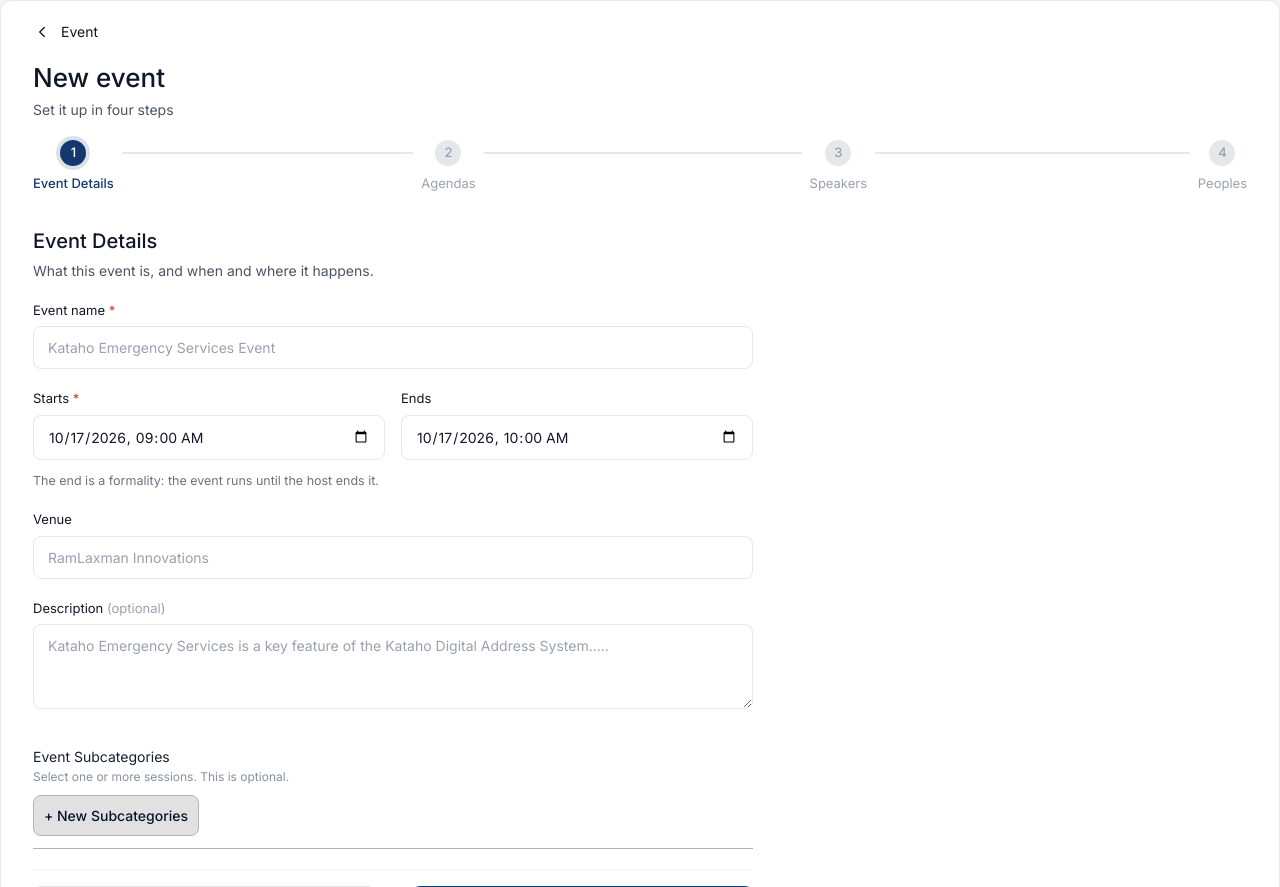
it: naming the parts of an event › keeps the event when a heading cannot be written
This screenshot has width=1280, height=887.
Type "Emergency Services" into the field labelled "Event name *" at (393, 348), box [33,326,753,369]
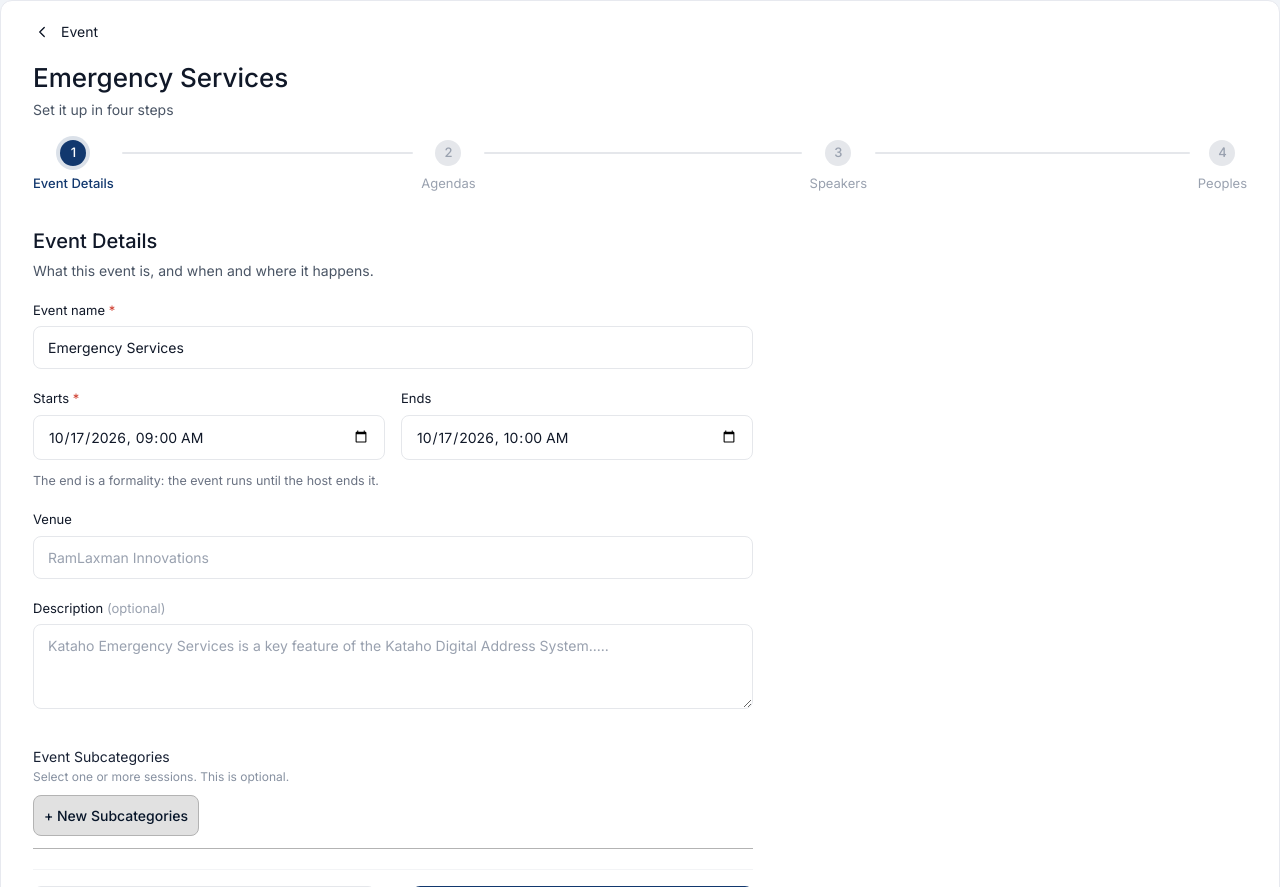
Click the button "+ New Subcategories" at (116, 816), box [33,795,199,836]
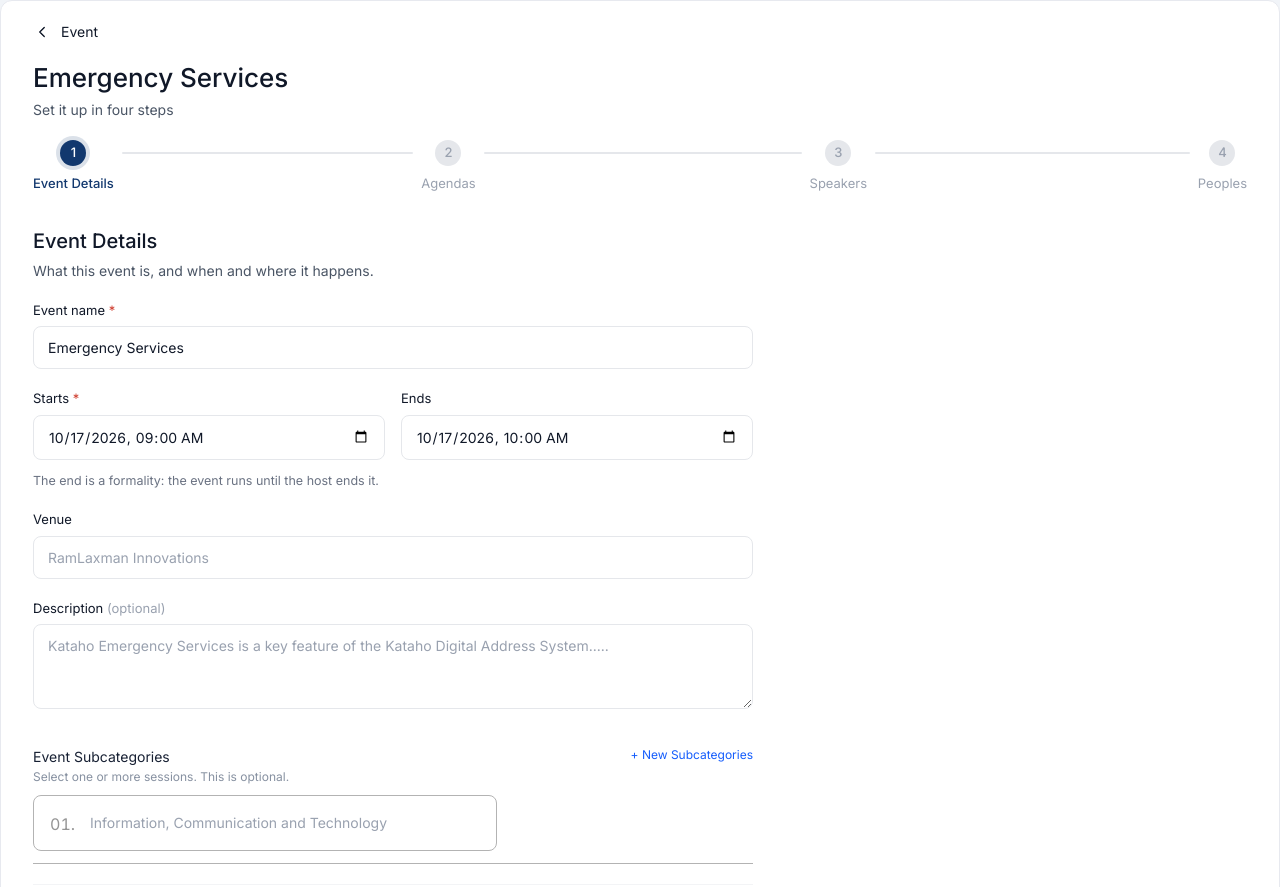
Type "Climate Change" into the field named "Subcategory name" at (285, 823), box [90,813,480,833]
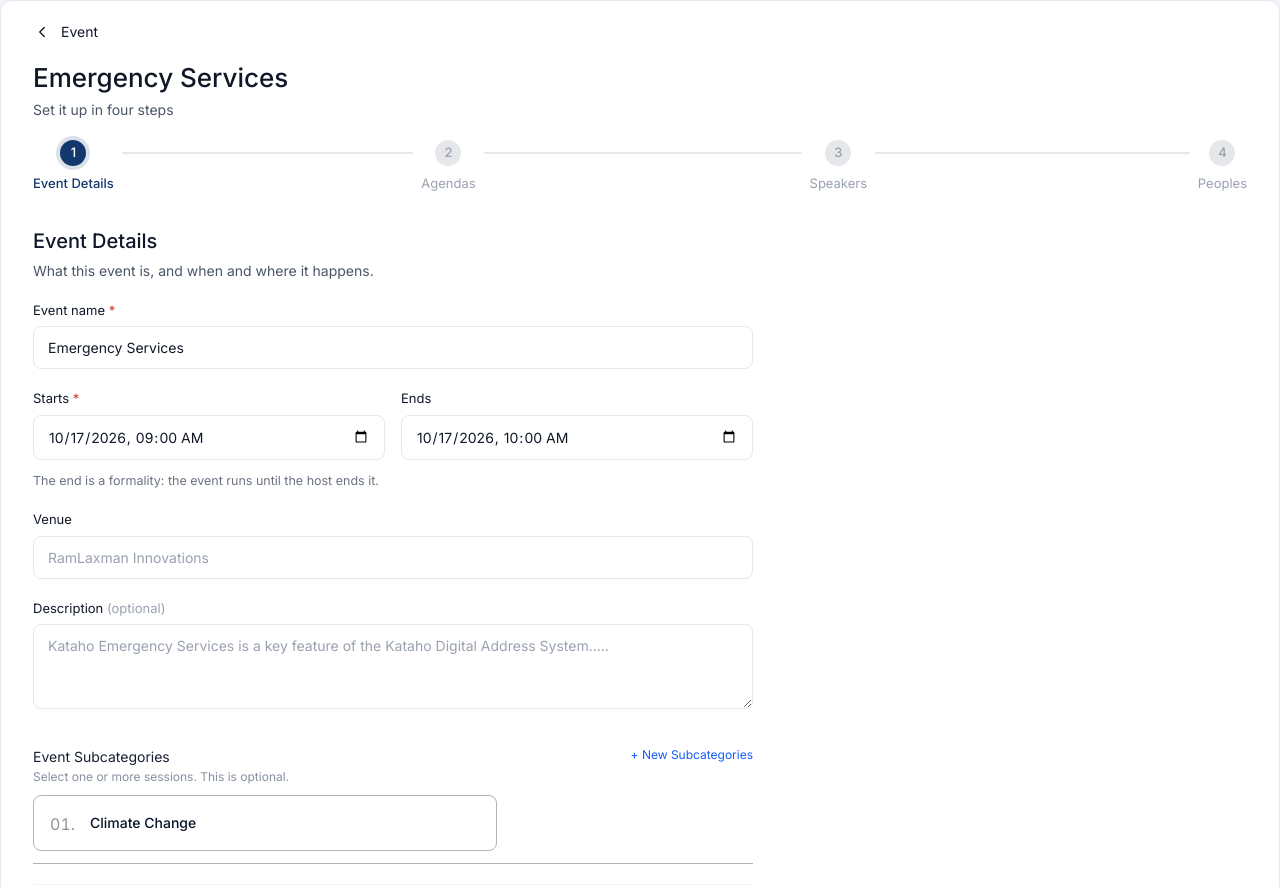
Press Enter in the field named "Subcategory name", box [90,813,480,833]
(page scrolled)
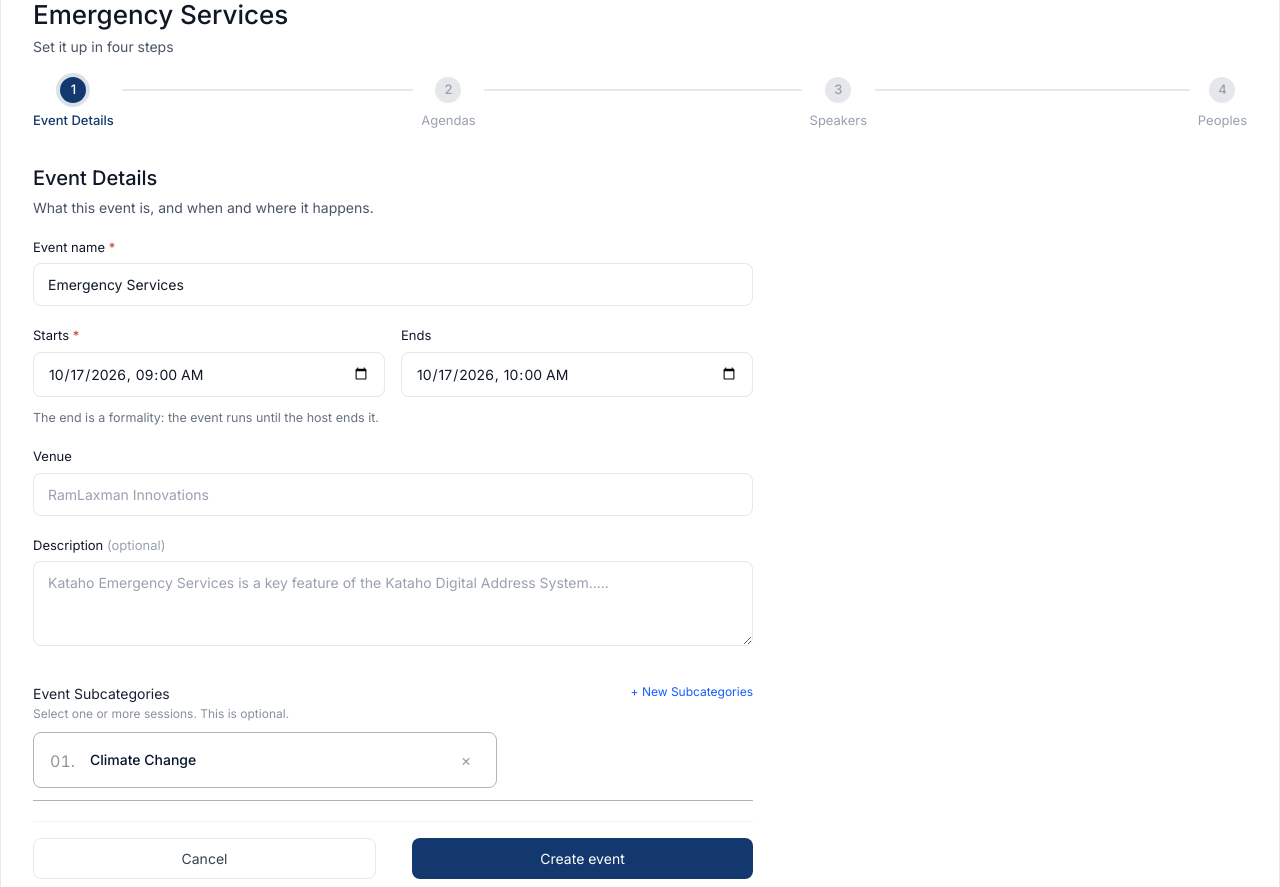
Click the button "Create event" at (582, 859), box [412,838,753,879]
(page scrolled)
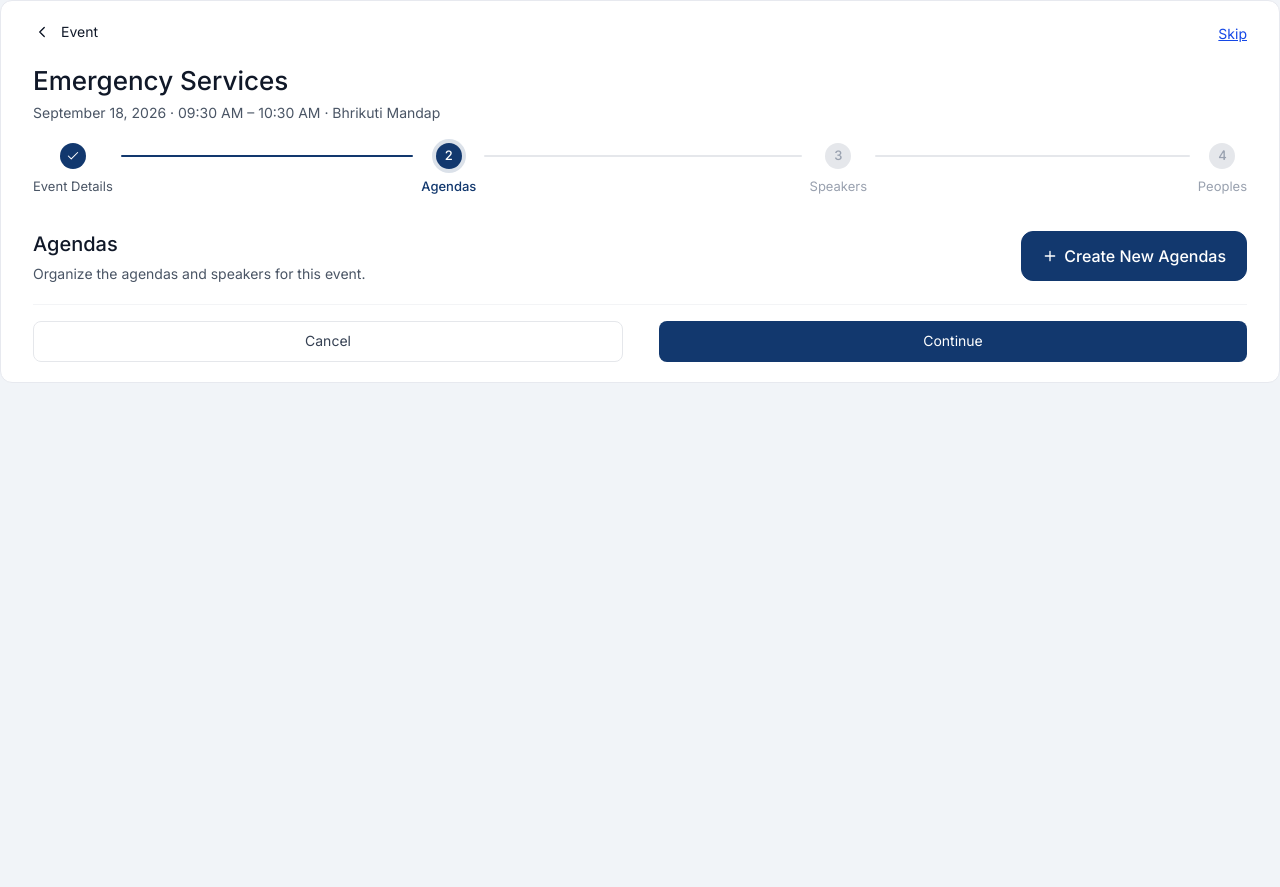
Expected: the heading "Agendas" is shown, [33,232,118,256]
